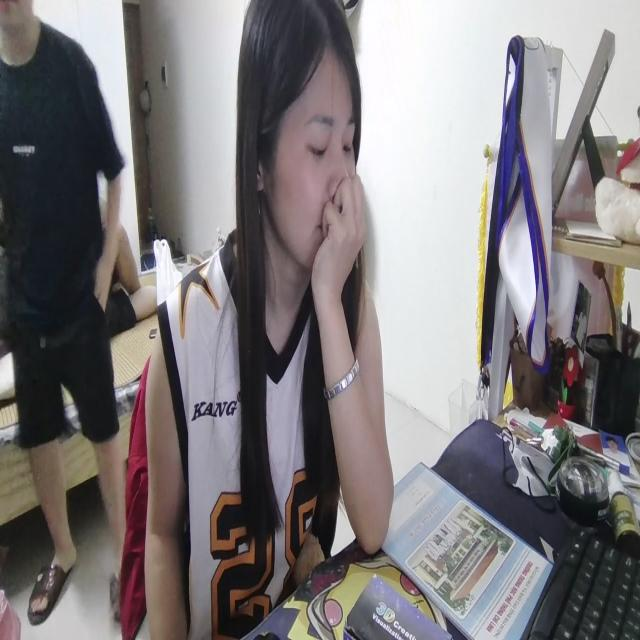book: (385, 459, 556, 640)
extra_person: (0, 0, 140, 619)
student: (143, 1, 392, 640)
